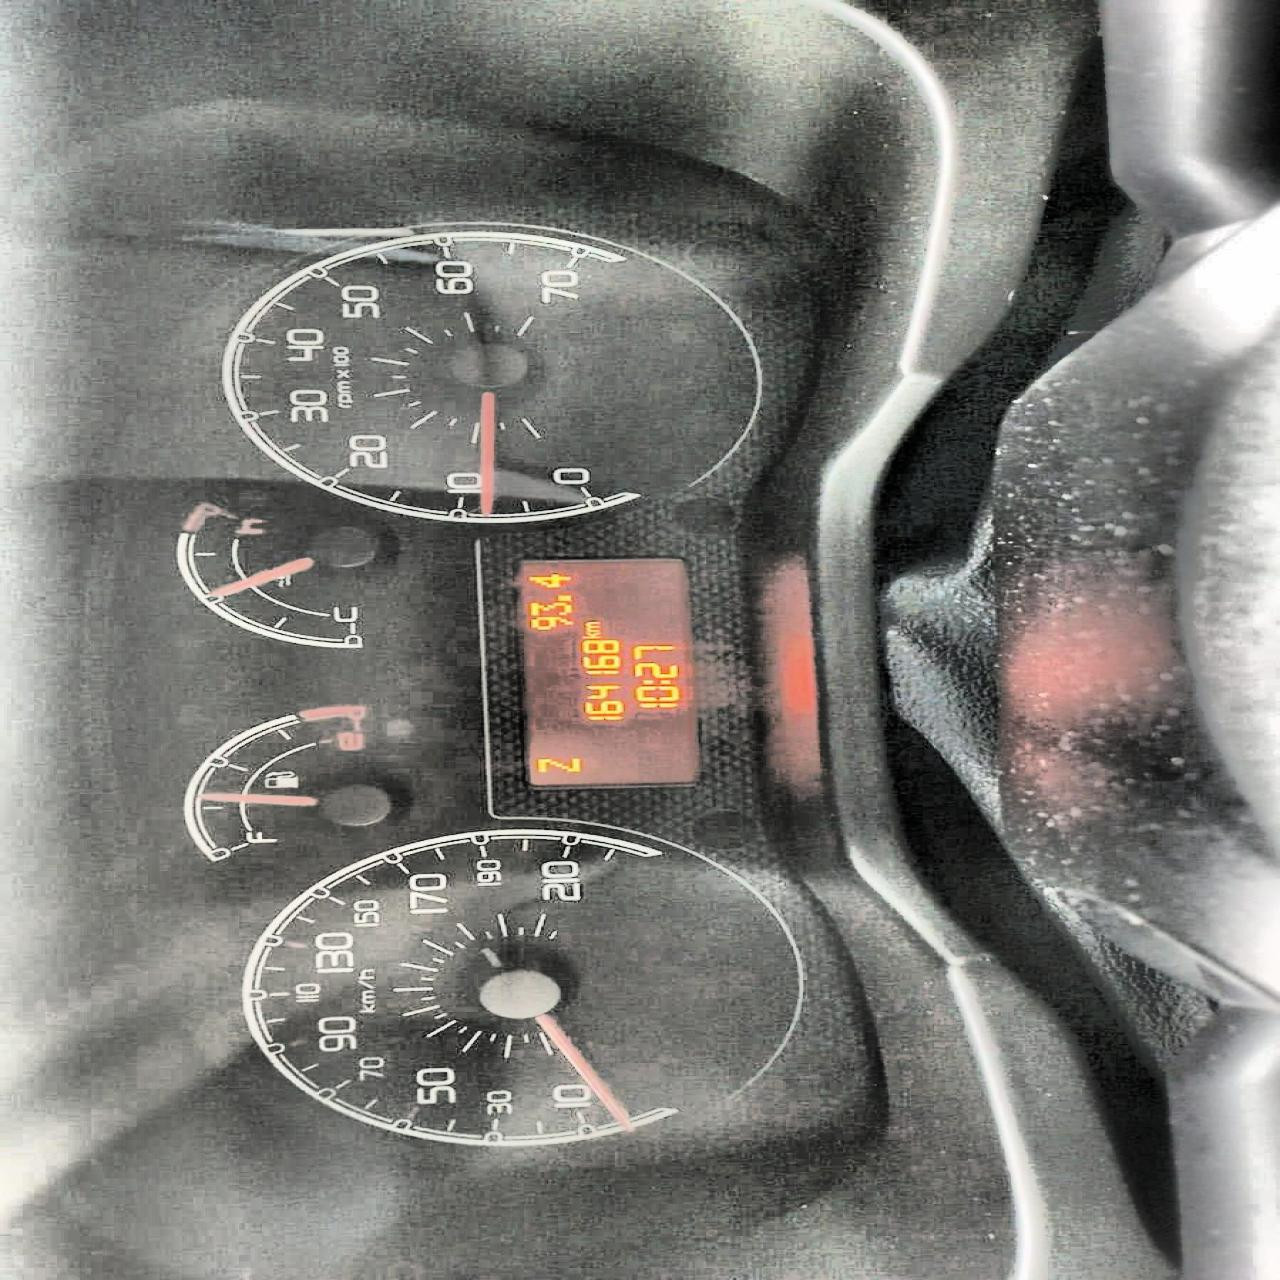-: (551, 594, 572, 602)
0: (631, 683, 682, 701)
1: (580, 668, 622, 675), (633, 702, 683, 708), (581, 715, 625, 721)
2: (629, 662, 678, 678)
3: (525, 600, 577, 615)
4: (526, 570, 576, 588), (581, 682, 624, 700)
6: (583, 700, 628, 714), (580, 654, 622, 668)
7: (629, 642, 678, 659)
8: (578, 638, 622, 654)
9: (527, 615, 576, 629)
X: (532, 756, 583, 772), (640, 678, 674, 685), (583, 620, 602, 631), (579, 631, 602, 638)
odometer: (524, 557, 686, 785)
